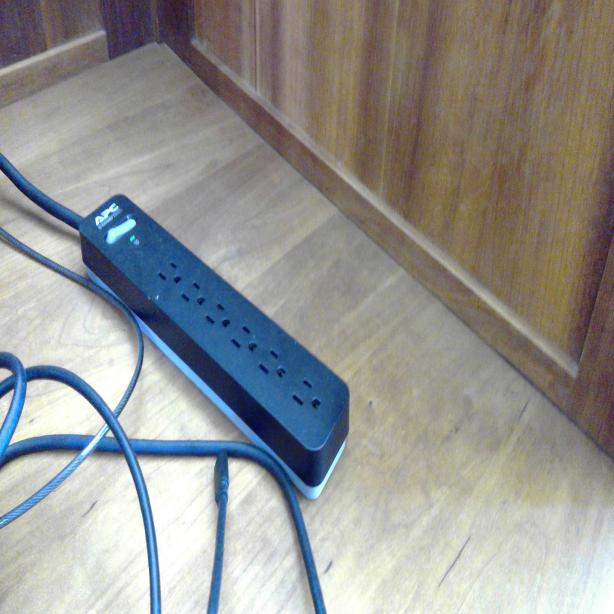typeb: (257, 344, 292, 383), (292, 376, 326, 414), (230, 316, 261, 356), (204, 292, 235, 331), (181, 271, 208, 310), (156, 257, 184, 291)
